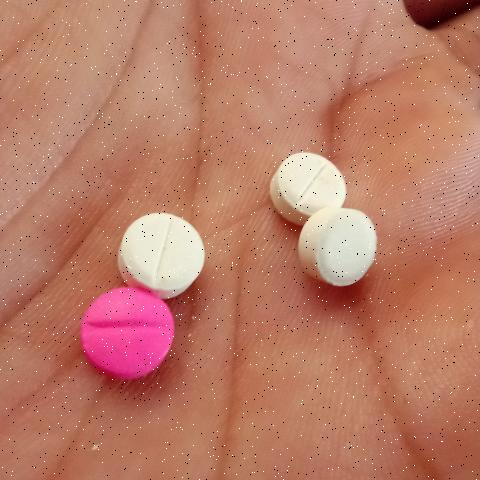hands: (107, 149, 238, 300), (256, 135, 366, 217), (294, 210, 382, 292)
